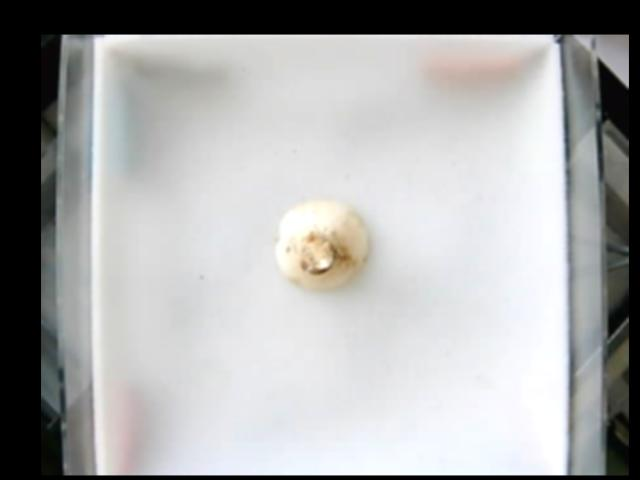Mooli: (276, 199, 372, 290)
